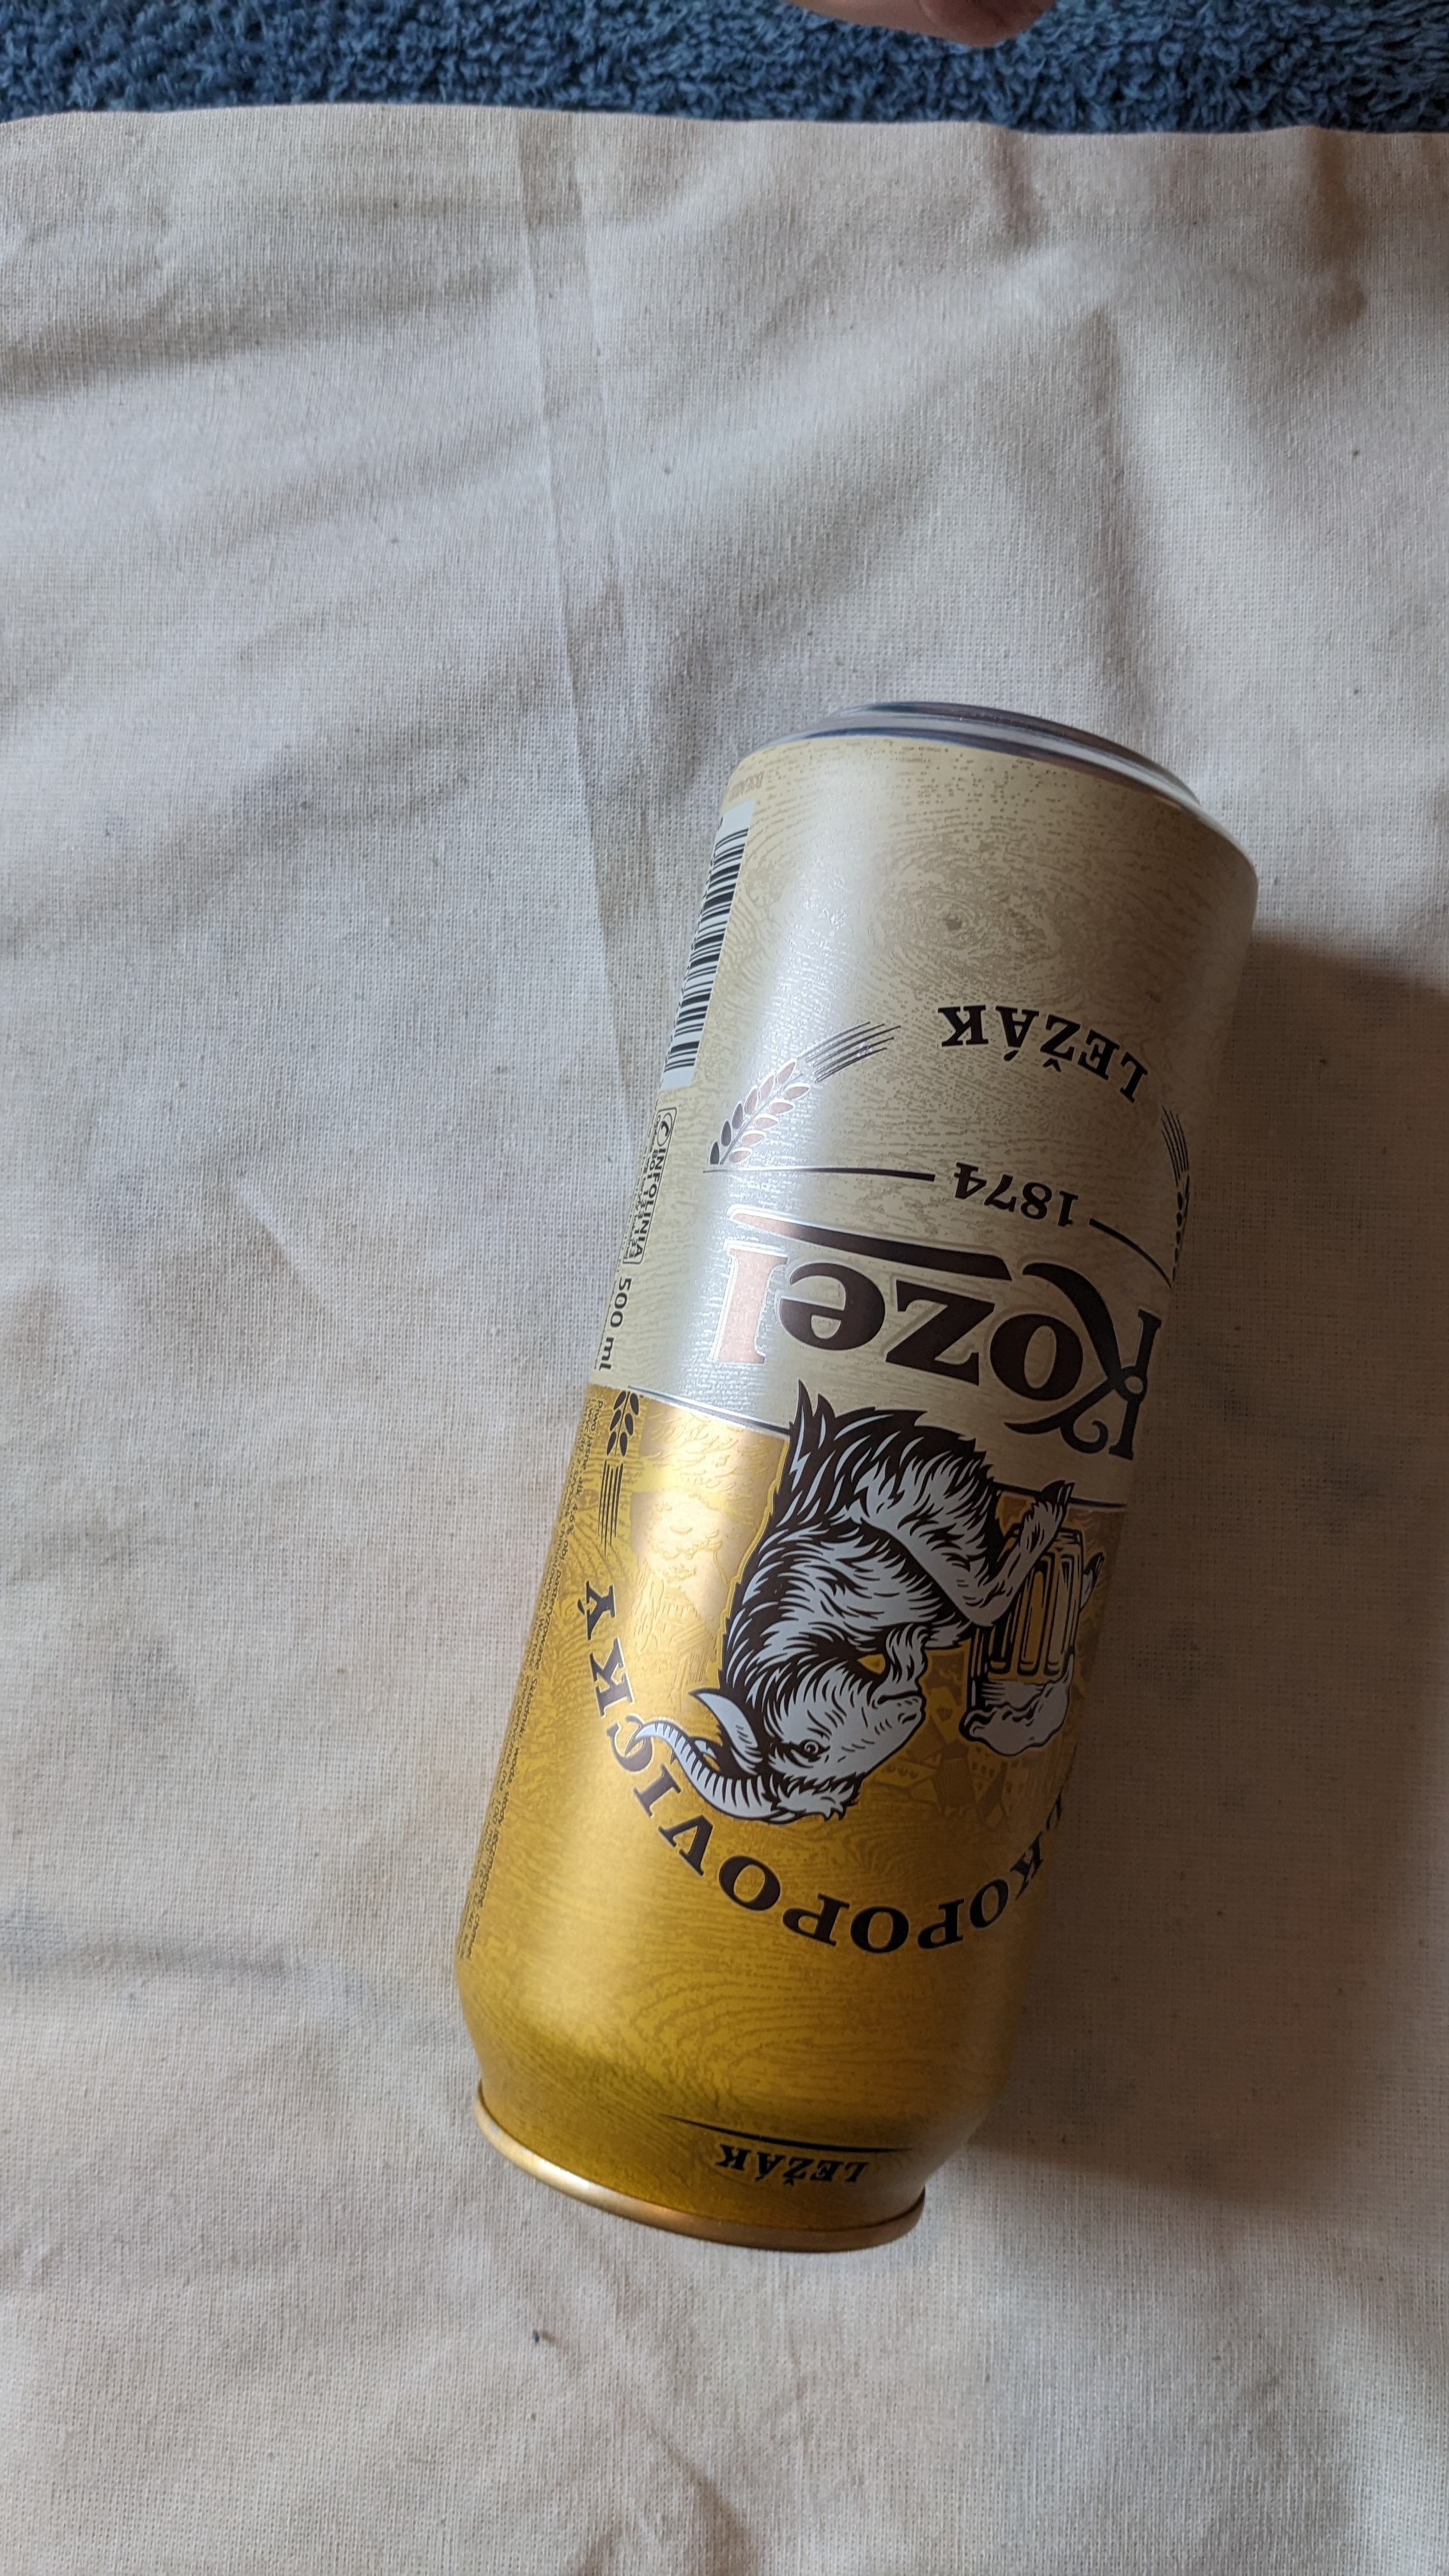kozel: (439, 688, 1288, 2282)
